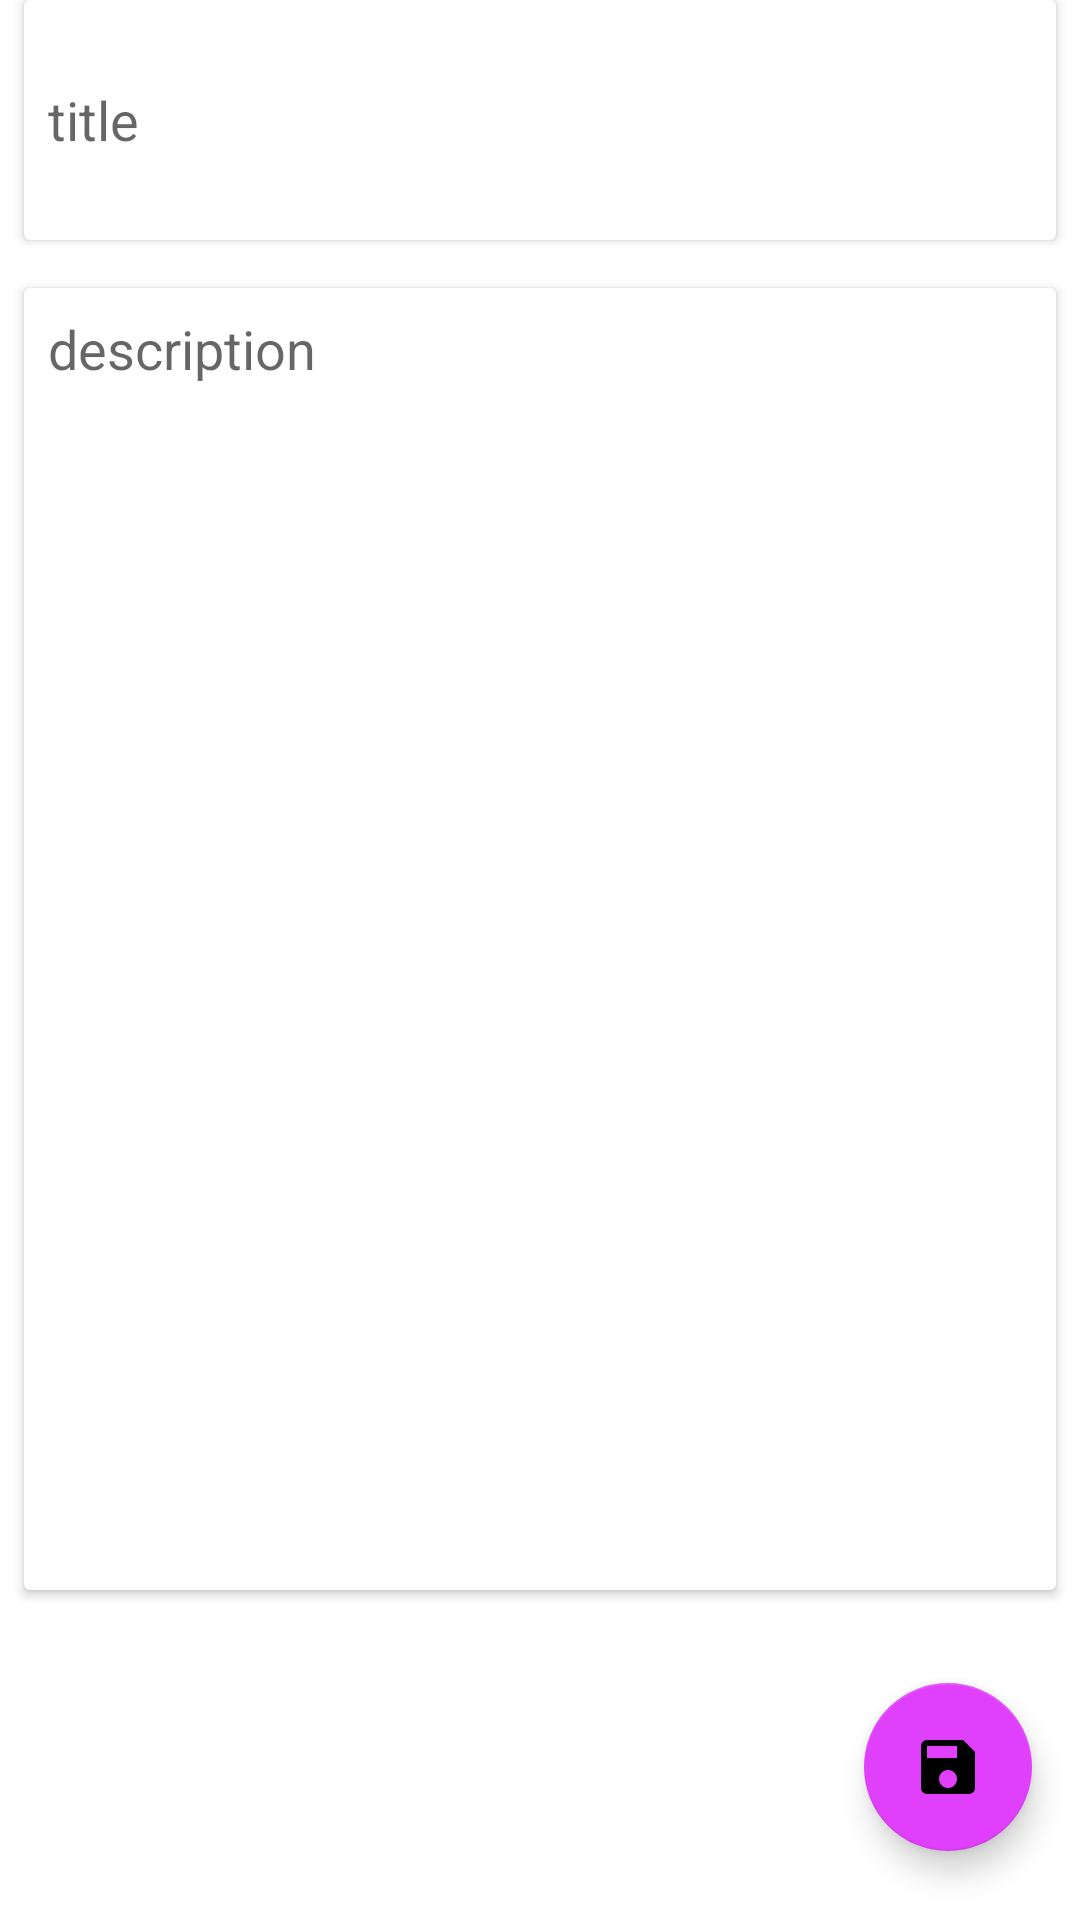

Icons on this 1080w x 1920h Android screen, each with the point to tap as (x=x, y=y):
save: (x=948, y=1767)
